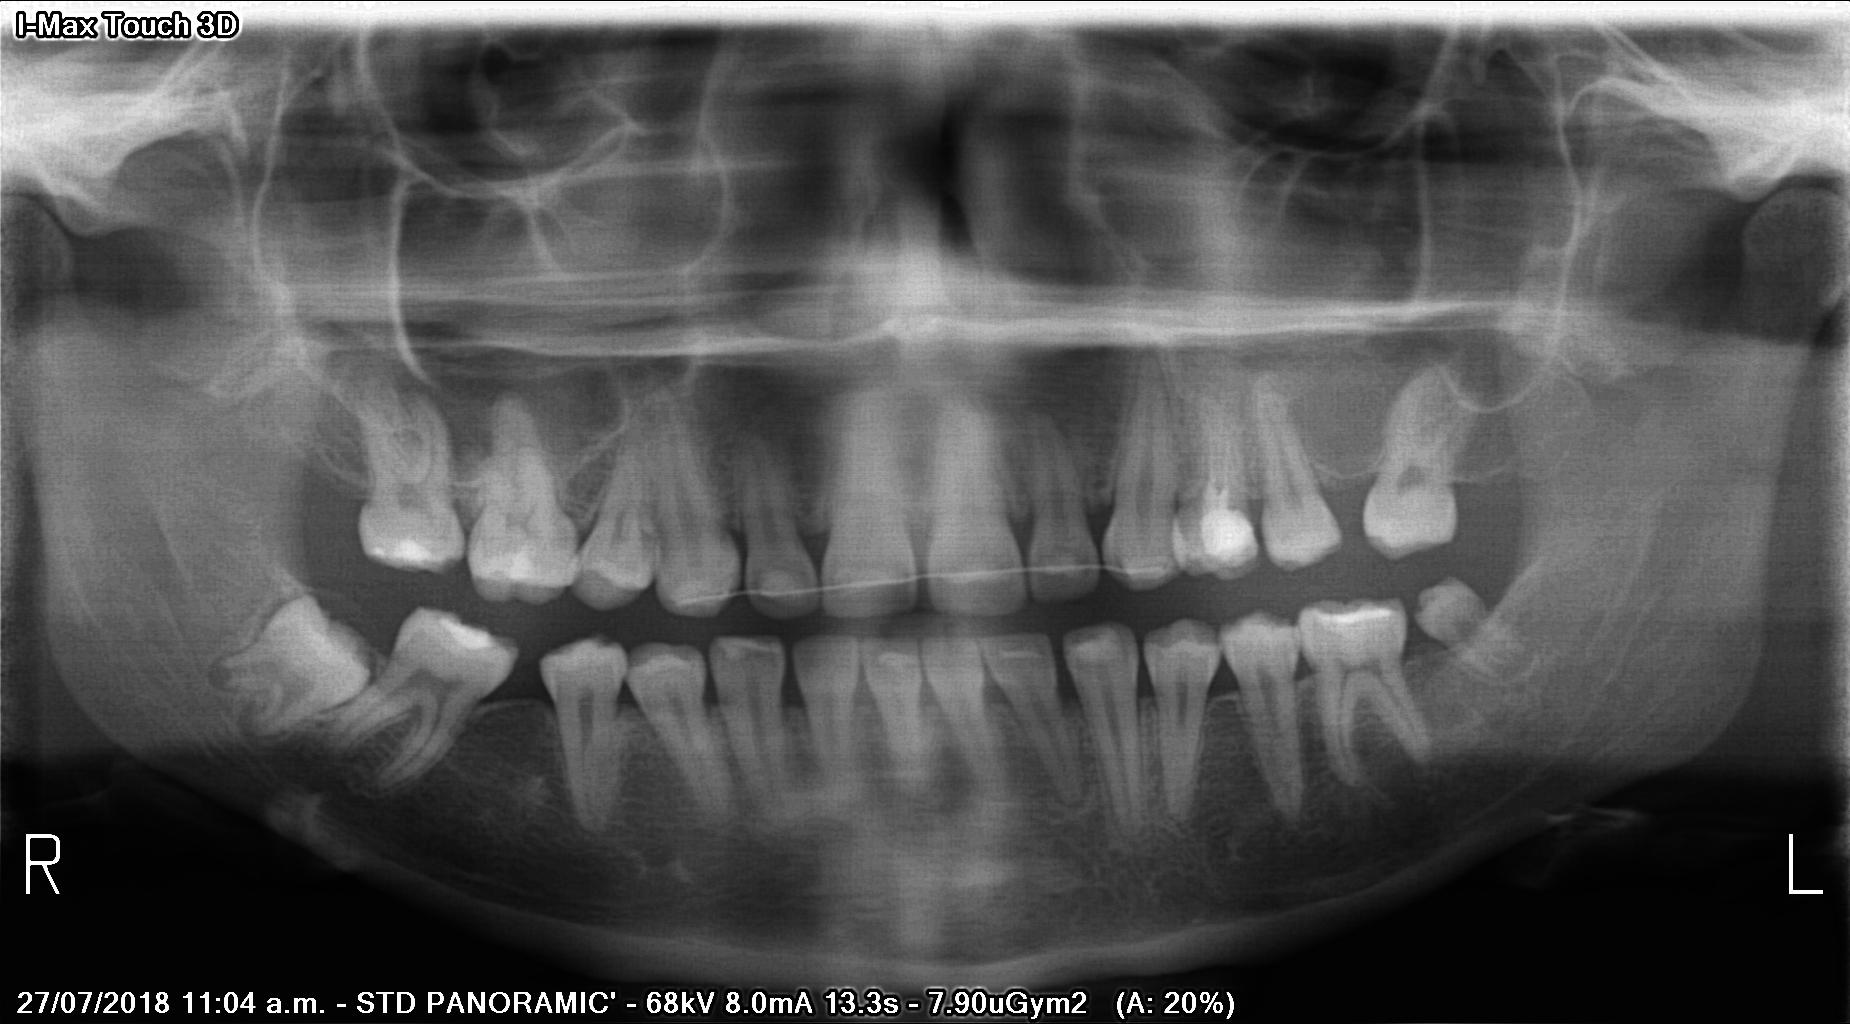Çürük: (1199, 506, 1277, 578), (437, 612, 496, 656)
Çürük Bölgesi: (733, 644, 774, 663)
